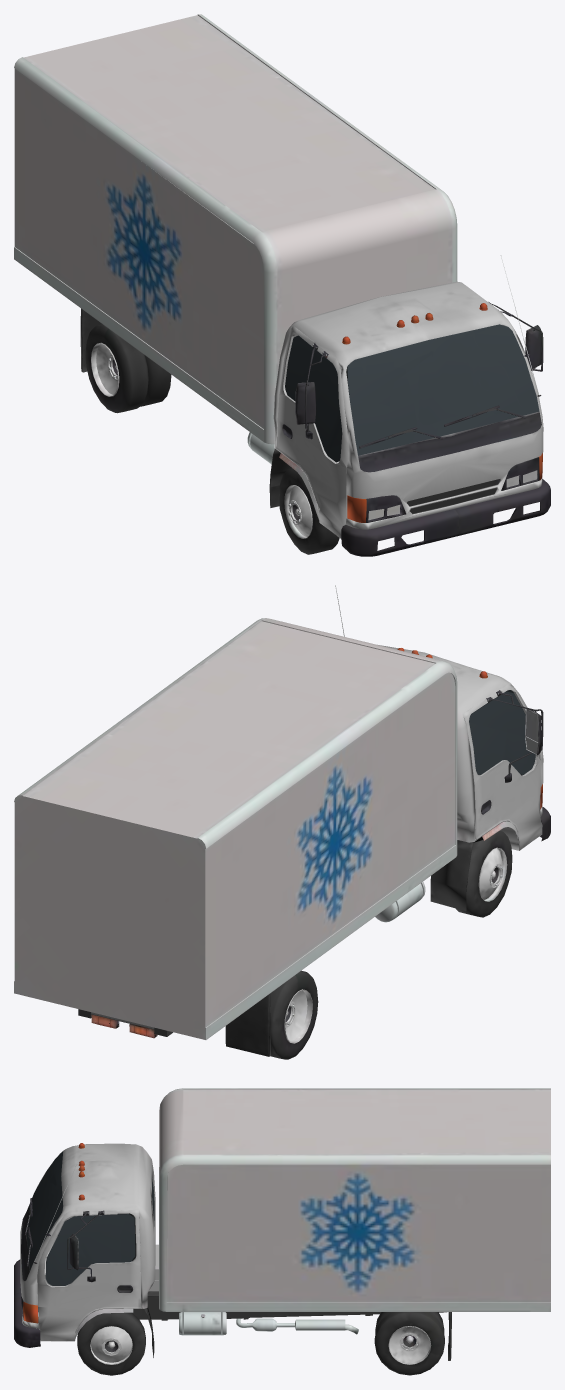
Rendered from boxtruck.glb.
3 renders of one model, top to bottom at view 1: azimuth 30°, elevation 25°; view 2: azimuth 150°, elevation 25°; view 3: azimuth 270°, elevation 25°, orthographic. The views are drawn at different scales.
Visible parts, largest first — view 1: part0, part1, wheel_RF, wheel_RB; view 2: part0, part1, wheel_RF; view 3: part0, part1, wheel_LF.
Boxes of the visible parts, x1,y1,x2,y2 form: part0: (14,14,550,556); part1: (285,324,539,462); wheel_RF: (279,468,339,554); wheel_RB: (140,355,171,406); part0: (14,585,550,1059); part1: (469,690,535,774); wheel_RF: (456,831,512,917); part0: (14,1088,550,1375); part1: (21,1152,154,1285); wheel_LF: (77,1312,145,1375).
Size of the model in its own units: 3.03 by 3.38 by 7.5.
Materials: 2 (1 with a texture image).
